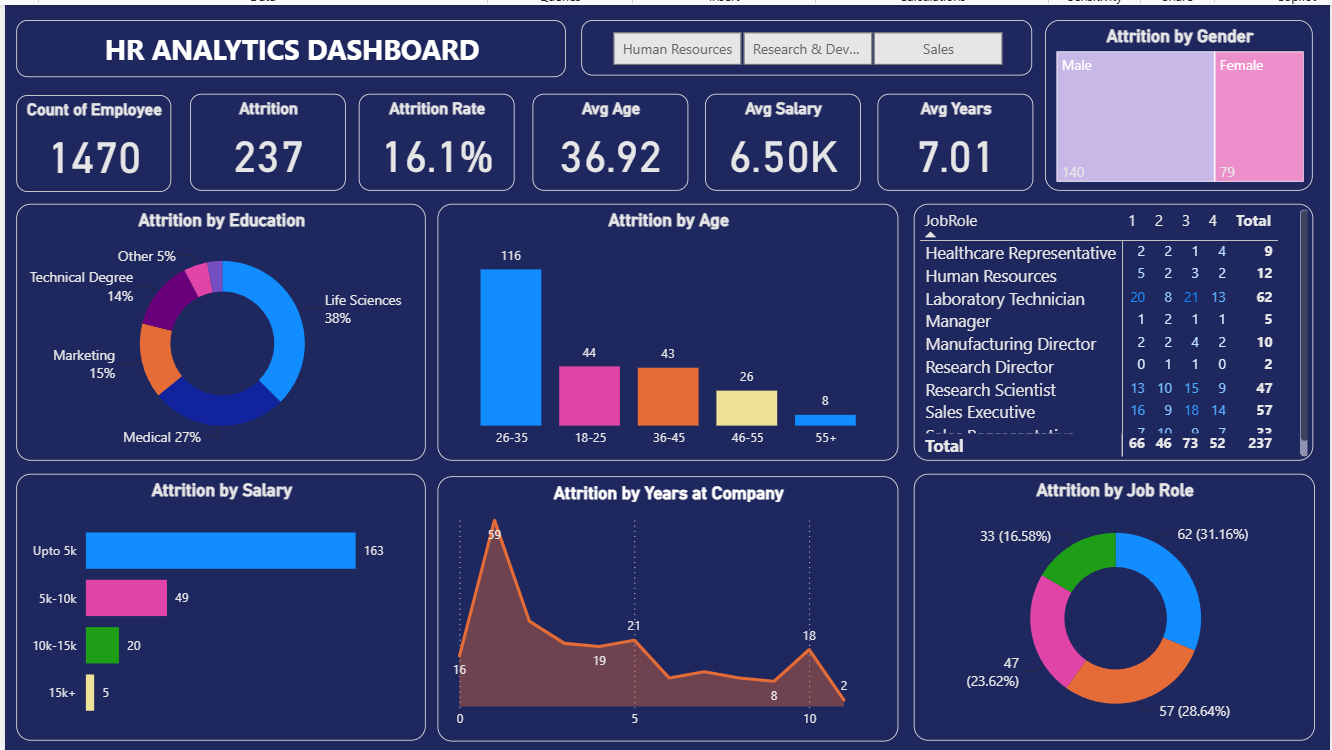

Layout of this report page (visuals, bound fields, positions):
{"tool":"powerbi","page":{"name":"HR ANALYTICS DASHBOARD","canvas":[1280,720],"ordinal":0},"visuals":[{"type":"card","title":"Count of Employee","fields":{"Values":["CountNonNull(HR_Analytics.EmpID)"]},"box":[10.7,85.8,150.1,93.8],"z":0},{"type":"card","title":"Attrition","fields":{"Values":["Sum(HR_Analytics.AttritionCount)"]},"box":[178.3,85.8,150.1,93.8],"z":1000},{"type":"card","title":"Attrition Rate","fields":{"Values":["HR_Analytics.AttritionRate"]},"box":[341.8,85.8,150.1,93.8],"z":2000},{"type":"card","title":"Avg Age","fields":{"Values":["Avg(HR_Analytics.Age)"]},"box":[509.3,85.8,150.1,93.8],"z":3000},{"type":"card","title":"Avg Salary","fields":{"Values":["Avg(HR_Analytics.MonthlyIncome)"]},"box":[675.5,85.8,150.1,93.8],"z":5000},{"type":"card","title":"Avg Years","fields":{"Values":["Avg(HR_Analytics.YearsAtCompany)"]},"box":[841.7,85.8,150.1,93.8],"z":6000},{"type":"donutChart","title":"Attrition by Education","fields":{"Y":["Sum(HR_Analytics.AttritionCount)"],"Category":["HR_Analytics.EducationField","HR_Analytics.YearsAtCompany"]},"box":[10.7,191.7,395.4,248],"z":7000},{"type":"columnChart","title":"Attrition by Age","fields":{"Category":["HR_Analytics.AgeGroup"],"Y":["Sum(HR_Analytics.AttritionCount)"]},"box":[416.8,191.7,445,248],"z":8000},{"type":"pivotTable","fields":{"Rows":["HR_Analytics.JobRole"],"Columns":["HR_Analytics.JobSatisfaction"],"Values":["Sum(HR_Analytics.AttritionCount)"]},"box":[876.5,191.7,386,248],"z":9000},{"type":"barChart","title":"Attrition by Salary","fields":{"Category":["HR_Analytics.SalarySlab"],"Y":["Sum(HR_Analytics.AttritionCount)"]},"box":[10.7,453,395.4,257.3],"z":10000},{"type":"donutChart","title":"Attrition by Job Role","fields":{"Category":["HR_Analytics.JobRole"],"Y":["Sum(HR_Analytics.AttritionCount)"]},"box":[876.5,453,387.3,257.3],"z":11000},{"type":"areaChart","title":"Attrition by Years at Company","fields":{"Category":["HR_Analytics.YearsAtCompany"],"Y":["Sum(HR_Analytics.AttritionCount)"]},"box":[416.8,454.4,445,256],"z":12000},{"type":"treemap","title":"Attrition by Gender","fields":{"Group":["HR_Analytics.Gender"],"Values":["Sum(HR_Analytics.AttritionCount)"]},"box":[1003.9,14.7,258.7,164.9],"z":13000},{"type":"slicer","fields":{"Values":["HR_Analytics.Department"]},"box":[556.2,14.7,435.6,53.6],"z":14000},{"type":"textbox","box":[10.7,14.7,530.7,55],"z":15000}]}

Visuals, with their boxes in screenshot pixels (x1, y1, x2, y2):
"Count of Employee" card: [x1=1, y1=74, x2=161, y2=174]
"Attrition" card: [x1=179, y1=74, x2=339, y2=174]
"Attrition Rate" card: [x1=353, y1=74, x2=513, y2=174]
"Avg Age" card: [x1=531, y1=74, x2=691, y2=174]
"Avg Salary" card: [x1=708, y1=74, x2=868, y2=174]
"Avg Years" card: [x1=885, y1=74, x2=1045, y2=174]
"Attrition by Education" donutChart: [x1=1, y1=187, x2=422, y2=450]
"Attrition by Age" columnChart: [x1=433, y1=187, x2=907, y2=450]
pivotTable - HR_Analytics.JobRole x HR_Analytics.JobSatisfaction: [x1=922, y1=187, x2=1331, y2=450]
"Attrition by Salary" barChart: [x1=1, y1=465, x2=422, y2=738]
"Attrition by Job Role" donutChart: [x1=922, y1=465, x2=1331, y2=738]
"Attrition by Years at Company" areaChart: [x1=433, y1=466, x2=907, y2=738]
"Attrition by Gender" treemap: [x1=1058, y1=0, x2=1331, y2=174]
slicer - HR_Analytics.Department: [x1=581, y1=0, x2=1045, y2=55]
textbox: [x1=1, y1=0, x2=566, y2=57]
